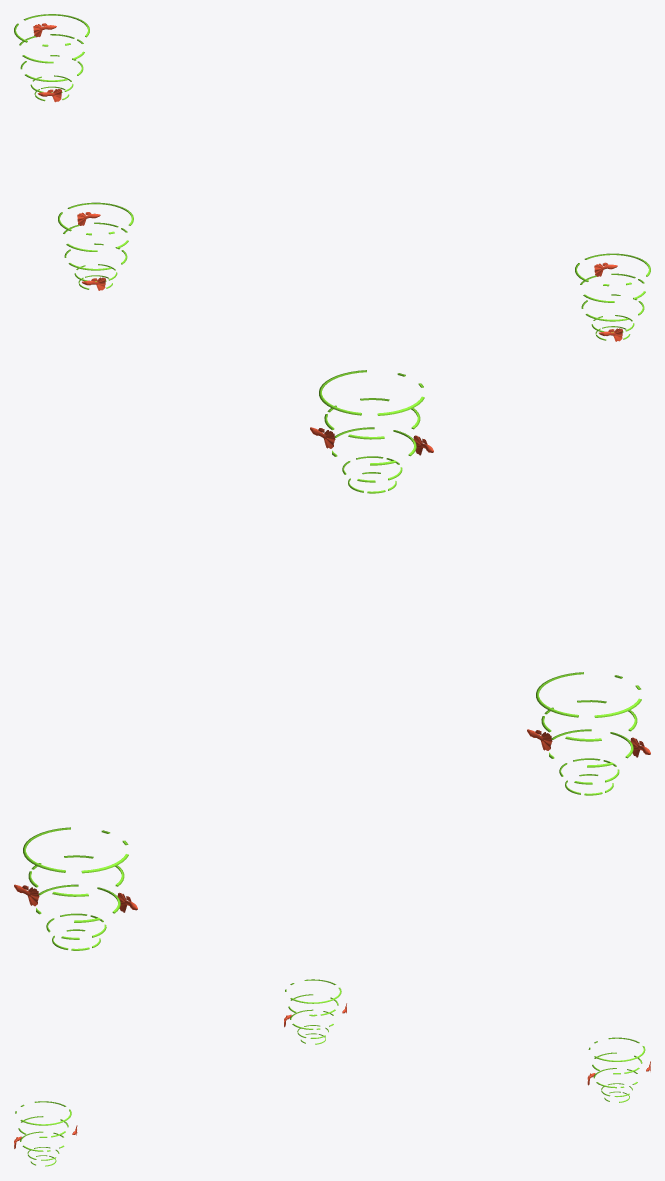
The model's file is SciFi_02.fbx.
The picture shows the model from 3 angles, top to bottom: view 1: azimuth 30°, elevation 25°; view 2: azimuth 150°, elevation 25°; view 3: azimuth 270°, elevation 25°; orthographic projection. The views are drawn at different scales.
Visible parts, largest first — view 1: Scifi_02; view 2: Scifi_02; view 3: Scifi_02.
Boxes of the visible parts, <box> form: Scifi_02: <box>14,14,650,341</box>; Scifi_02: <box>14,370,650,950</box>; Scifi_02: <box>14,979,650,1166</box>.
Size of the model in its own units: 3819 by 590 by 7054.
